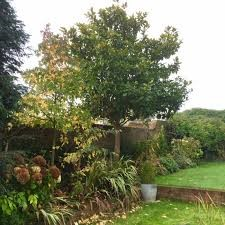grass: (114, 197, 223, 223), (157, 160, 223, 189)
tree: (114, 125, 120, 160)
